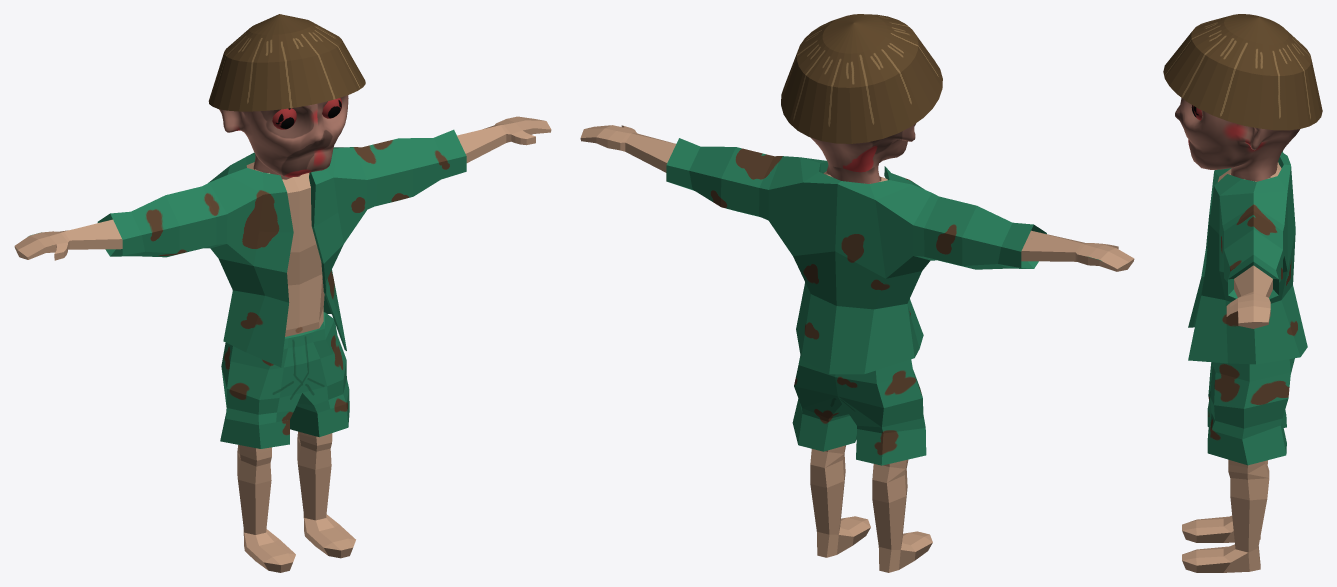
Rendered from DUWENDE.fbx.
3 renders of one model, left to right at view 1: azimuth 30°, elevation 25°; view 2: azimuth 150°, elevation 25°; view 3: azimuth 270°, elevation 25°, orthographic. The views are drawn at different scales.
Parts seen in each view (by area): view 1: BODY, LEGS, hat, Retopo_HEAD, eyes; view 2: BODY, LEGS, hat, Retopo_HEAD; view 3: BODY, LEGS, hat, Retopo_HEAD.
Part boxes in pixels (left/top/right/bottom): BODY: left=14, top=116, right=551, bottom=367; LEGS: left=220, top=162, right=355, bottom=572; hat: left=208, top=14, right=365, bottom=111; Retopo_HEAD: left=219, top=95, right=348, bottom=179; eyes: left=272, top=98, right=341, bottom=129; BODY: left=580, top=125, right=1134, bottom=374; LEGS: left=792, top=171, right=932, bottom=572; hat: left=781, top=14, right=942, bottom=143; Retopo_HEAD: left=810, top=123, right=915, bottom=183; BODY: left=1188, top=151, right=1307, bottom=364; LEGS: left=1182, top=162, right=1294, bottom=572; hat: left=1163, top=14, right=1322, bottom=130; Retopo_HEAD: left=1175, top=98, right=1299, bottom=181.
Bounding box in the file's own units: 179 × 170 × 45.89.
